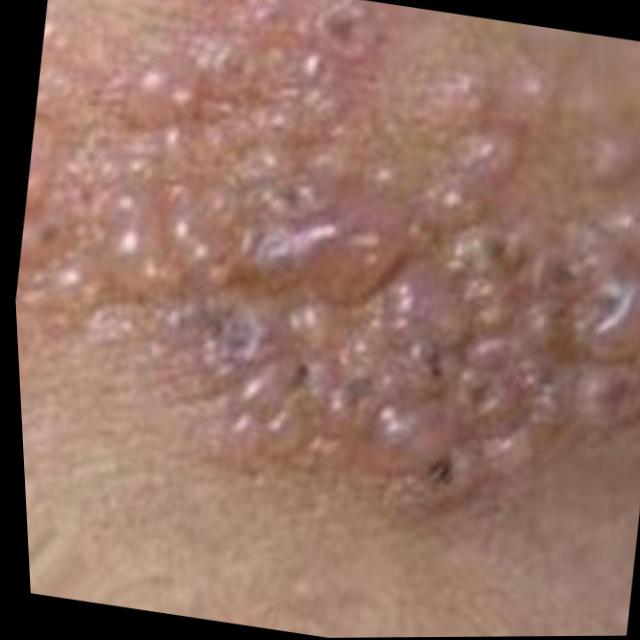Shingles: (0, 2, 640, 532)
